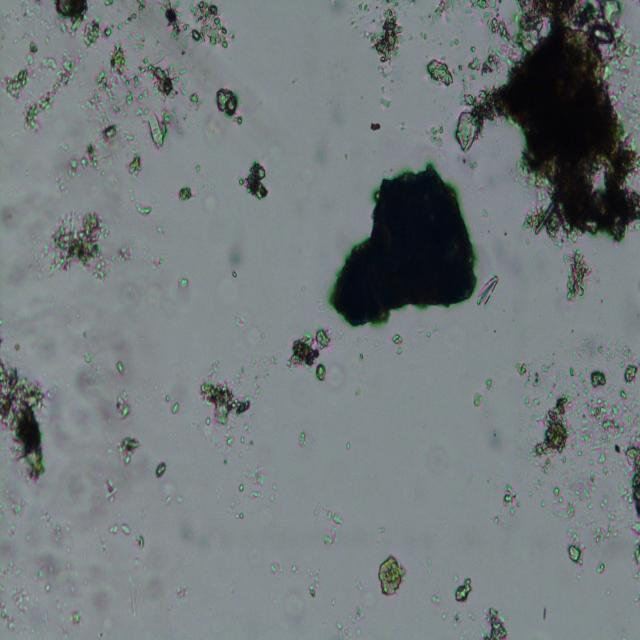Background material: (454, 0, 640, 247), (518, 337, 640, 563), (0, 349, 52, 485), (41, 204, 114, 282), (22, 48, 83, 133), (56, 120, 120, 198), (86, 46, 151, 118), (196, 362, 254, 427), (0, 294, 56, 360), (54, 457, 101, 532), (164, 0, 230, 51), (75, 354, 115, 422), (61, 321, 134, 356), (287, 325, 331, 383), (371, 0, 406, 72), (556, 245, 592, 312), (140, 56, 190, 104), (5, 43, 43, 97), (487, 472, 523, 525), (236, 463, 272, 511), (310, 500, 344, 550), (372, 547, 406, 596), (232, 163, 275, 201), (0, 190, 44, 226), (136, 107, 176, 145), (29, 550, 66, 591), (84, 564, 115, 611), (144, 542, 164, 607), (329, 604, 365, 640), (52, 0, 92, 32), (420, 441, 450, 478), (481, 415, 507, 456), (38, 506, 71, 538), (478, 604, 507, 640), (277, 590, 306, 626), (216, 88, 244, 125), (422, 56, 454, 88), (116, 0, 149, 30), (156, 474, 186, 506), (216, 428, 239, 466), (123, 568, 140, 616), (116, 434, 144, 463), (0, 486, 26, 515), (223, 244, 243, 281), (326, 360, 346, 395), (0, 598, 18, 636), (452, 570, 472, 604), (99, 470, 119, 502), (124, 195, 154, 216), (115, 280, 138, 307), (86, 21, 112, 44), (302, 563, 318, 599), (63, 602, 83, 630), (173, 270, 191, 300), (12, 586, 32, 612), (124, 158, 143, 184), (201, 190, 221, 214), (114, 243, 136, 264), (182, 90, 205, 110), (430, 0, 446, 27), (108, 519, 132, 537), (118, 392, 132, 421), (592, 556, 608, 581), (375, 89, 394, 110), (236, 307, 254, 329), (448, 606, 465, 629), (178, 182, 194, 206), (428, 122, 443, 147), (472, 385, 484, 413), (110, 360, 126, 381), (169, 586, 189, 602), (152, 457, 166, 479), (132, 533, 146, 551), (367, 121, 383, 136), (268, 558, 282, 575), (394, 329, 403, 355), (150, 258, 164, 271), (170, 400, 180, 416), (297, 431, 305, 450), (352, 384, 362, 396), (432, 592, 442, 604), (357, 349, 366, 362), (542, 604, 548, 622), (484, 380, 492, 391), (346, 441, 350, 451)
Diatom: (478, 273, 500, 305)
Fragment: (325, 159, 483, 328)
